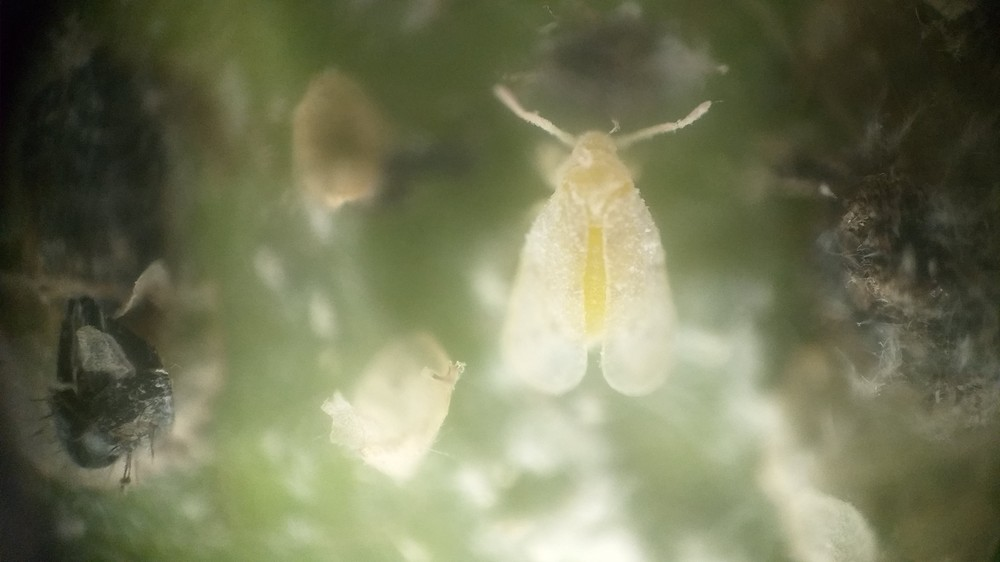Mosca Blanca: (451, 80, 739, 421)
